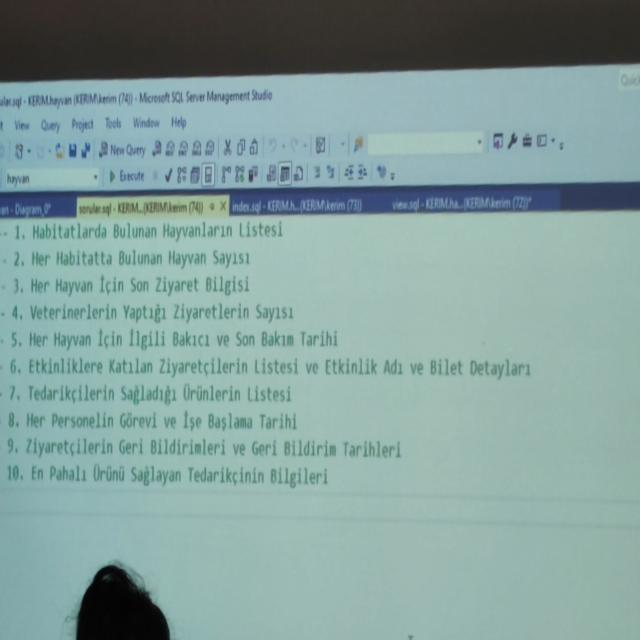text: (20, 218, 538, 498)
